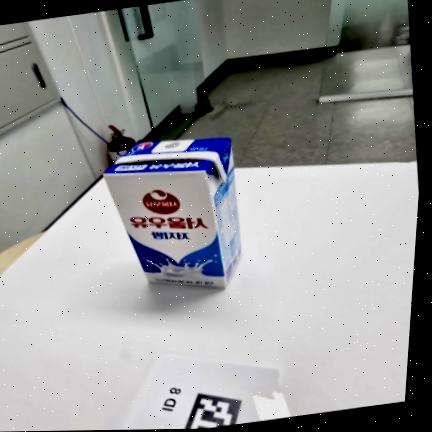milk_blue: (101, 136, 243, 288)
